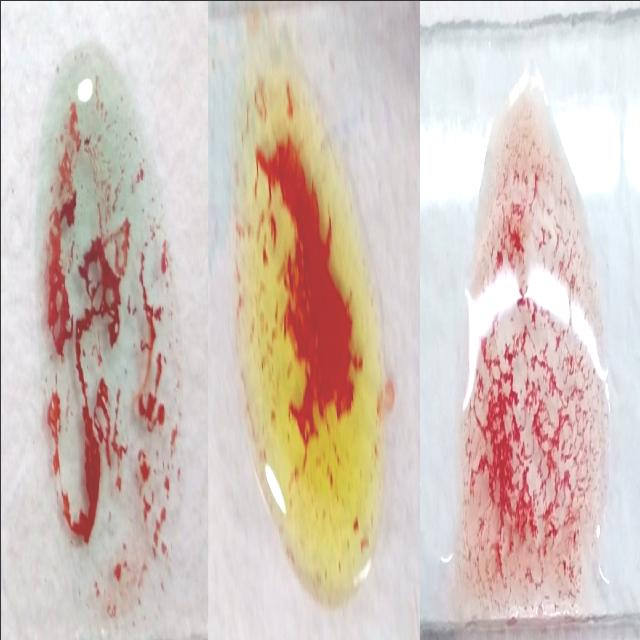A: (28, 45, 182, 619)
B: (229, 39, 388, 616)
D: (455, 48, 597, 620)
